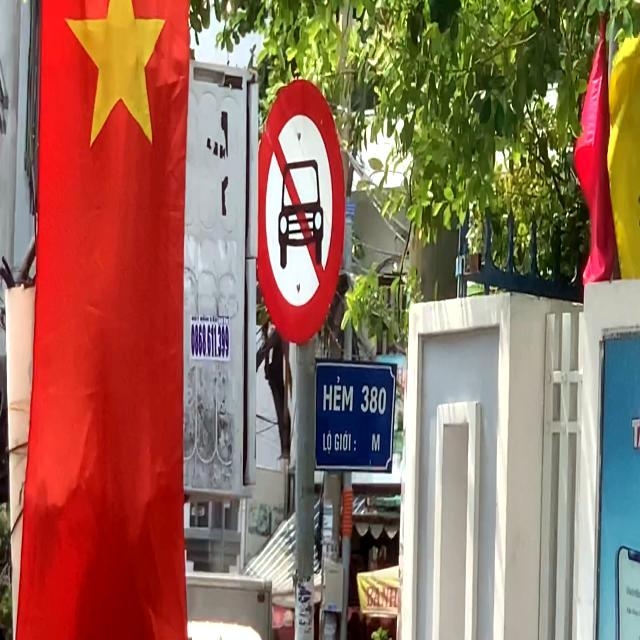Cam xe oto: (260, 80, 347, 344)
